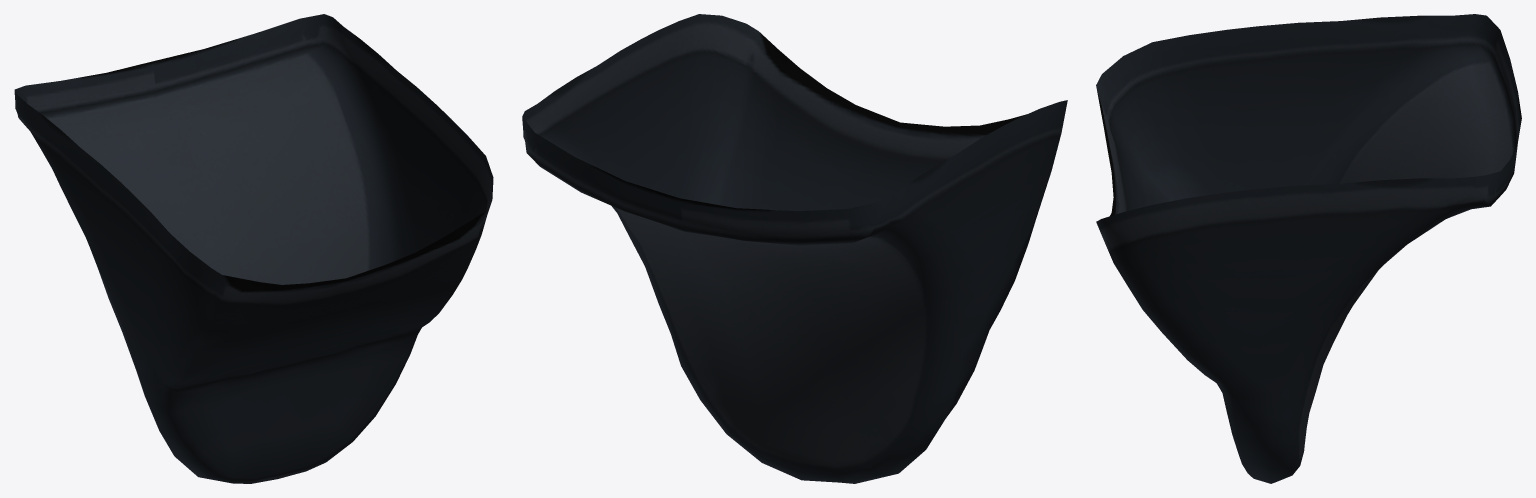
Rendered from left_trigger.obj.
3 renders of one model, left to right at view 1: azimuth 30°, elevation 25°; view 2: azimuth 150°, elevation 25°; view 3: azimuth 270°, elevation 25°, orthographic. The views are drawn at different scales.
Parts seen in each view (by area): view 1: left_trigger; view 2: left_trigger; view 3: left_trigger.
Boxes of the visible parts, x1,y1,x2,y2 form: left_trigger: [14, 14, 493, 483]; left_trigger: [522, 14, 1067, 483]; left_trigger: [1096, 14, 1521, 483].
Bounding box in the file's own units: 0.0198 × 0.0211 × 0.0219.
Materials: 1 (1 with a texture image).
